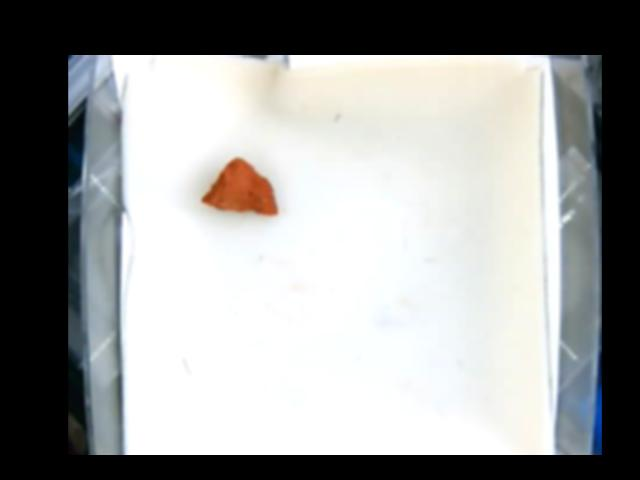Brisk: (201, 154, 279, 216)
